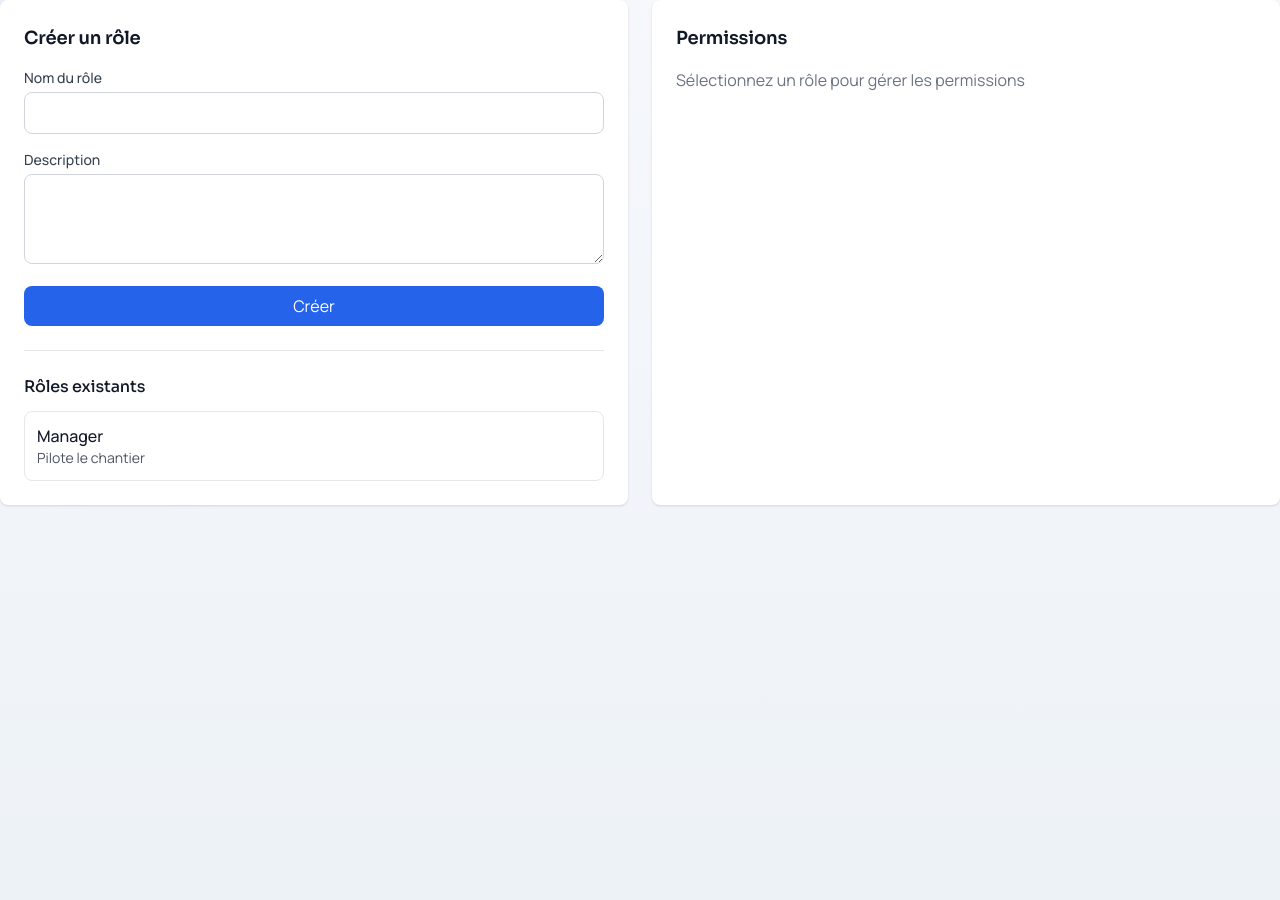
it: RoleManagement › accorde puis revoque une permission en journalisant les actions
The image size is (1280, 900).
Click the text "Manager": (70, 436) [37, 425, 103, 447]
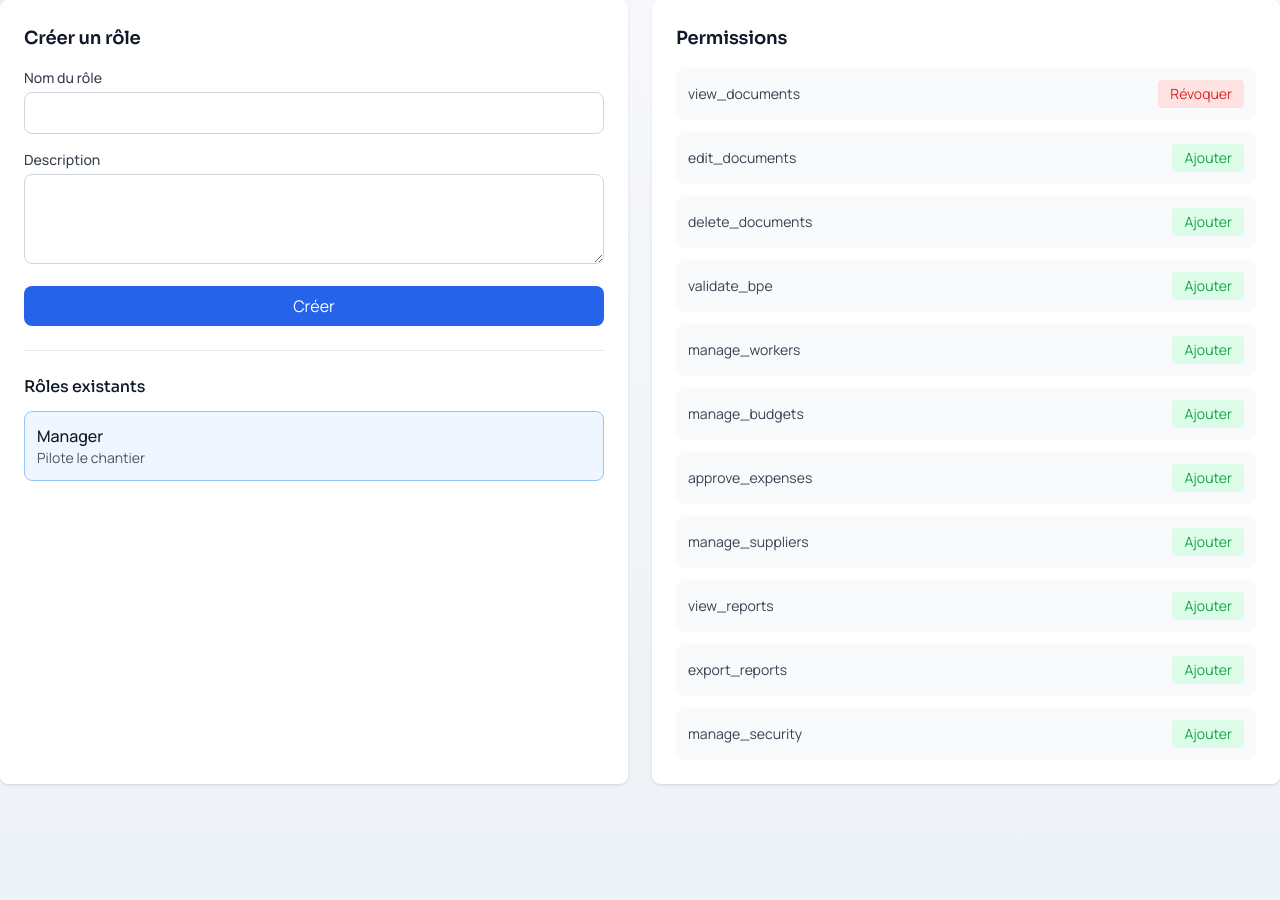
Now the text "view_documents Révoquer" is shown, box [676, 68, 1256, 120]
Now the text "edit_documents Ajouter" is shown, box [676, 132, 1256, 184]
Click the button "Ajouter" in the row of "edit_documents": (1208, 158) [1172, 144, 1244, 172]
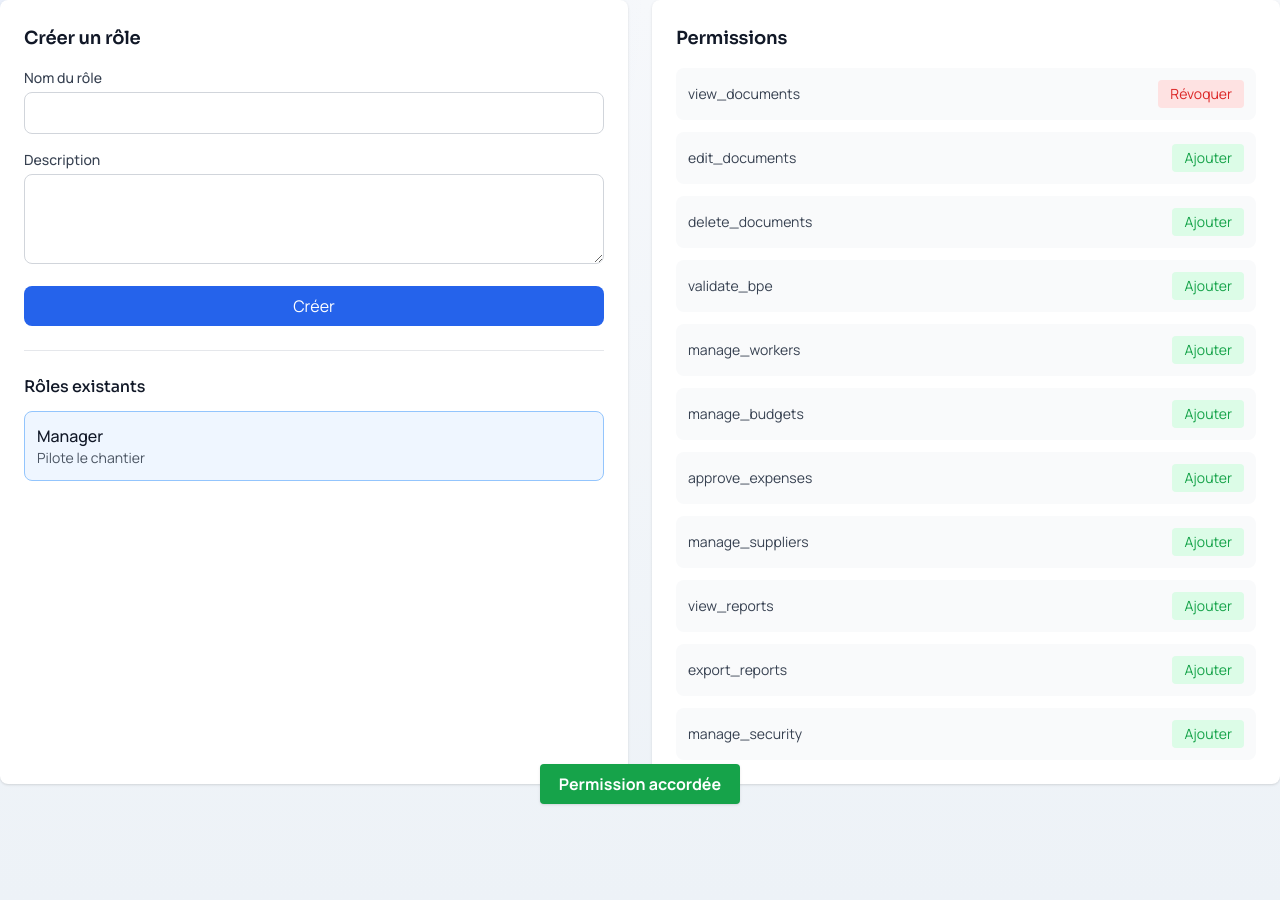
Now the text "Permission accordée" is shown, box [540, 764, 740, 804]
Click the button "Révoquer": (1201, 94) [1158, 80, 1244, 108]
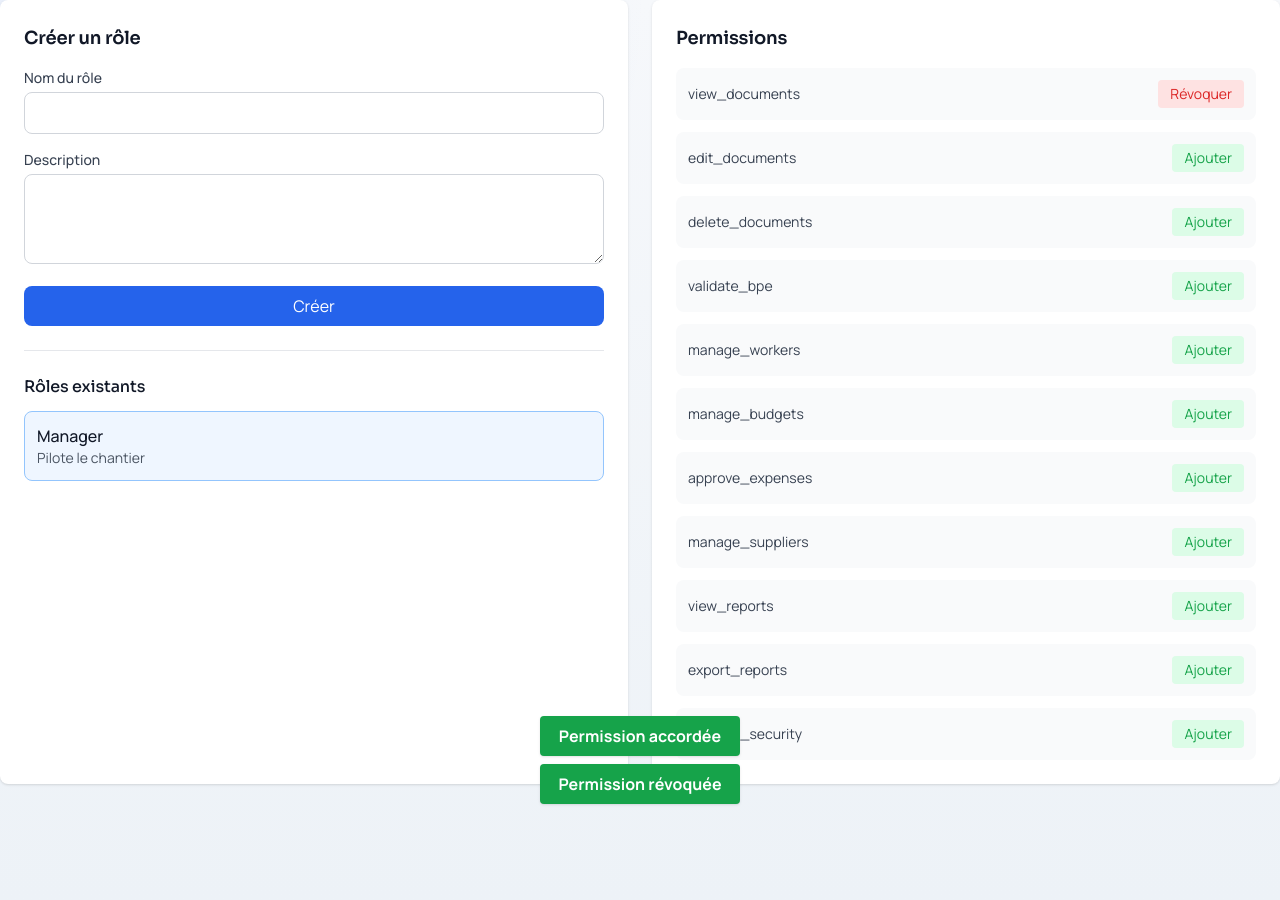
Now the text "Permission révoquée" is shown, box [540, 764, 740, 804]
